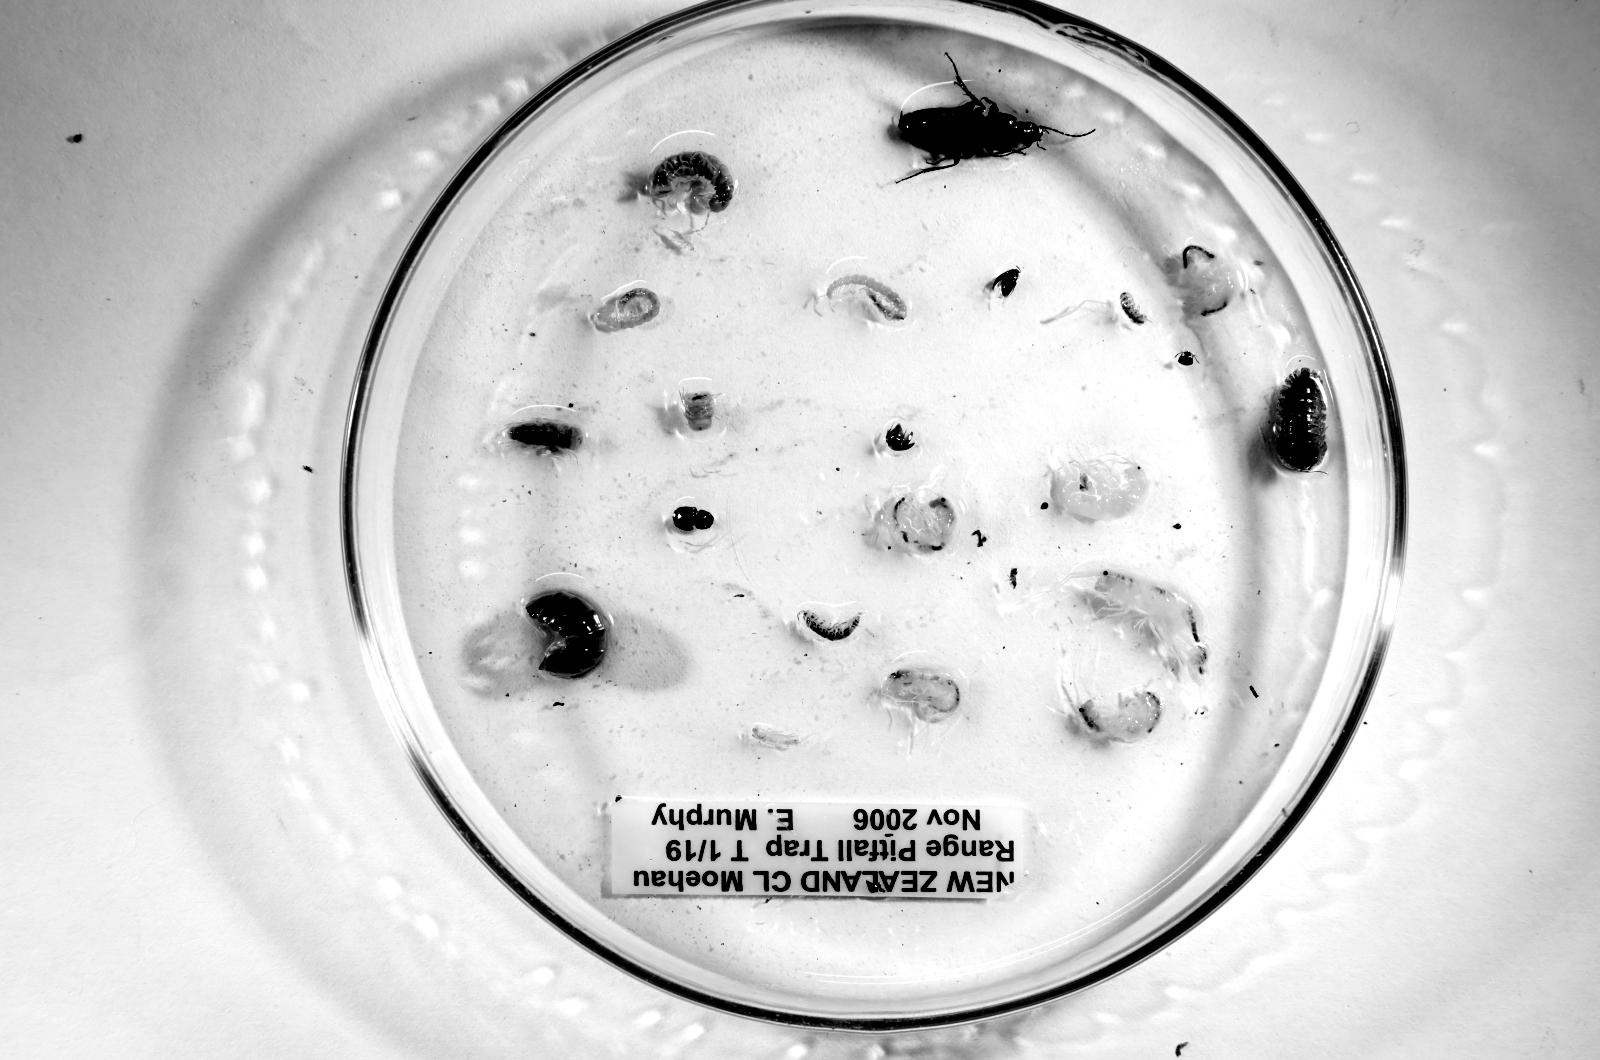amphipoda: (1094, 569, 1210, 684), (1051, 452, 1155, 521), (1078, 688, 1162, 743), (881, 668, 962, 723), (1179, 245, 1239, 315), (891, 493, 956, 553)
carabidae: (898, 72, 1057, 181)
coleoptera: (672, 506, 714, 532), (986, 268, 1021, 297)
collembola: (751, 725, 802, 747)
diplopoda: (646, 151, 735, 215), (824, 275, 907, 321), (595, 287, 659, 329)
isopoda: (526, 590, 609, 678), (1270, 367, 1327, 472), (799, 610, 860, 641), (1119, 292, 1146, 324)
